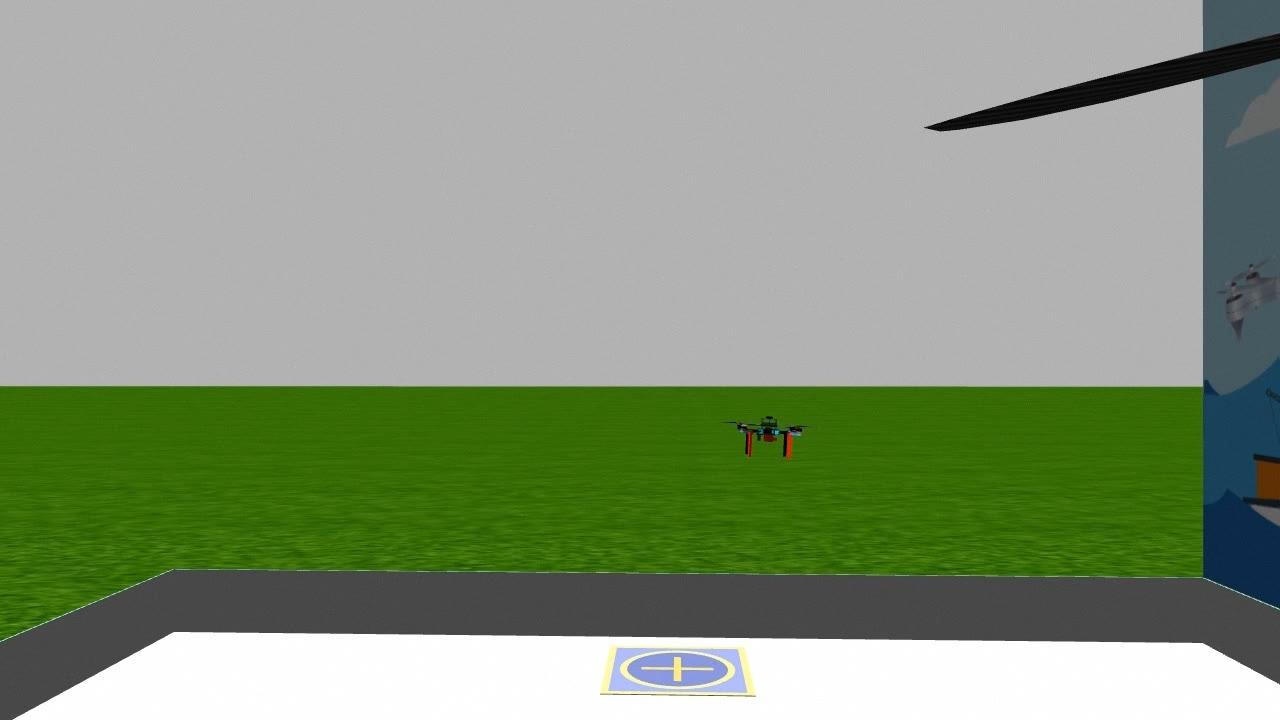UAV: (722, 408, 812, 468)
